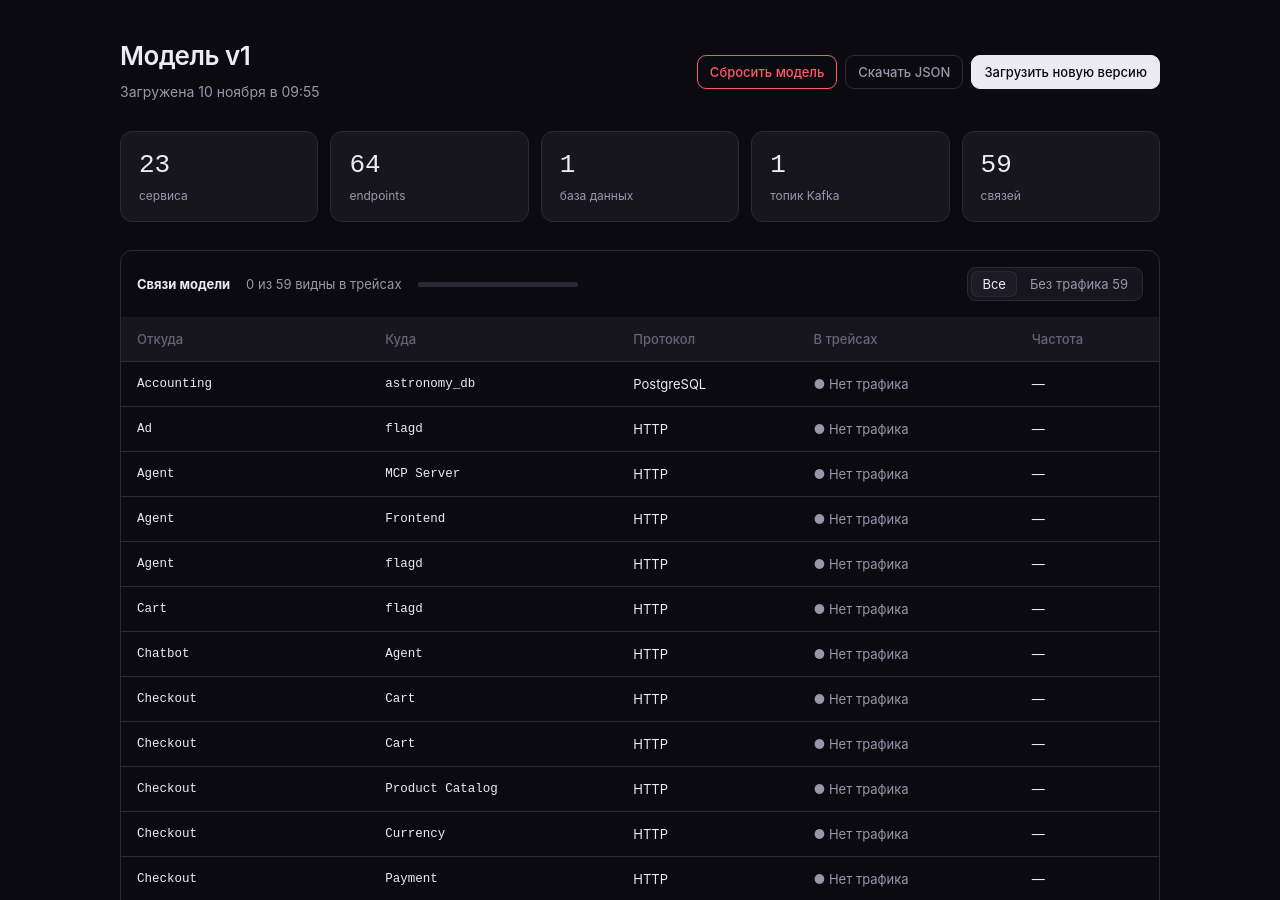
Scenario: reset dialog 2
Step 1. Click the button "Сбросить модель" → x=767, y=72, box [697,55,837,89]
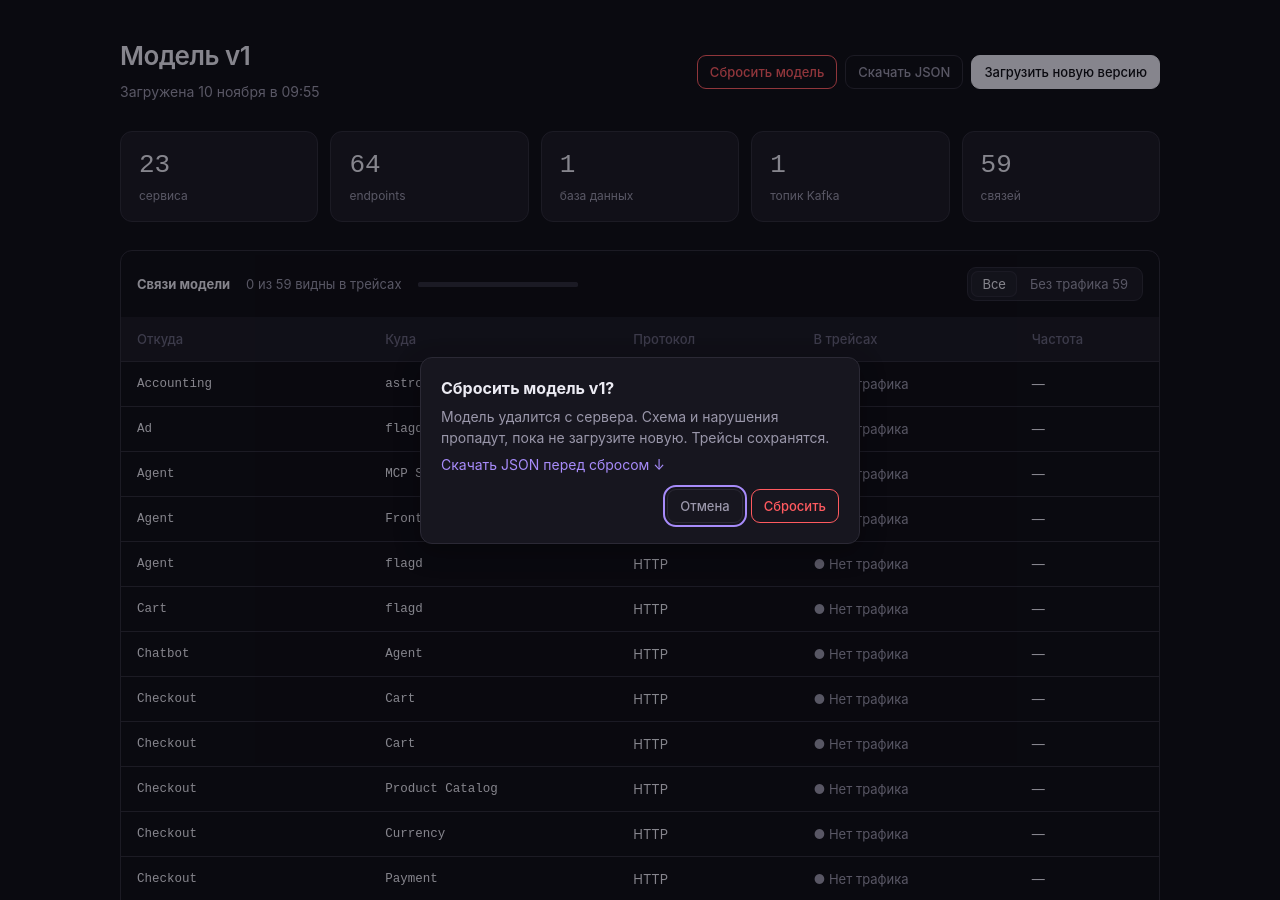
Step 2. Click the button "Сбросить" → x=795, y=506, box [751,488,839,522]
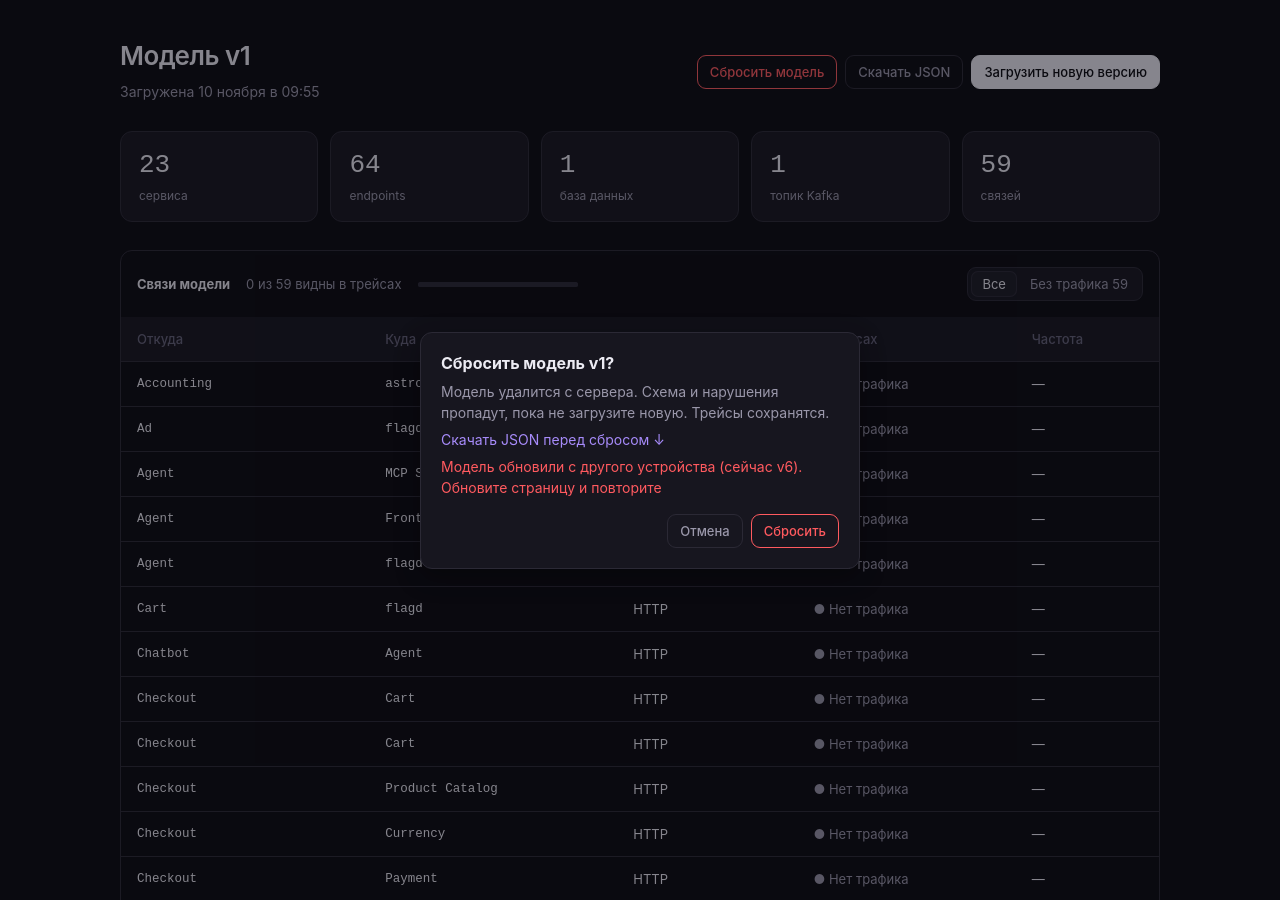
Expected: the dialog is shown, [420,332,860,568]
Expected: the message shows "Модель обновили с другого устройства (сейчас v6)", [441,458,802,496]
